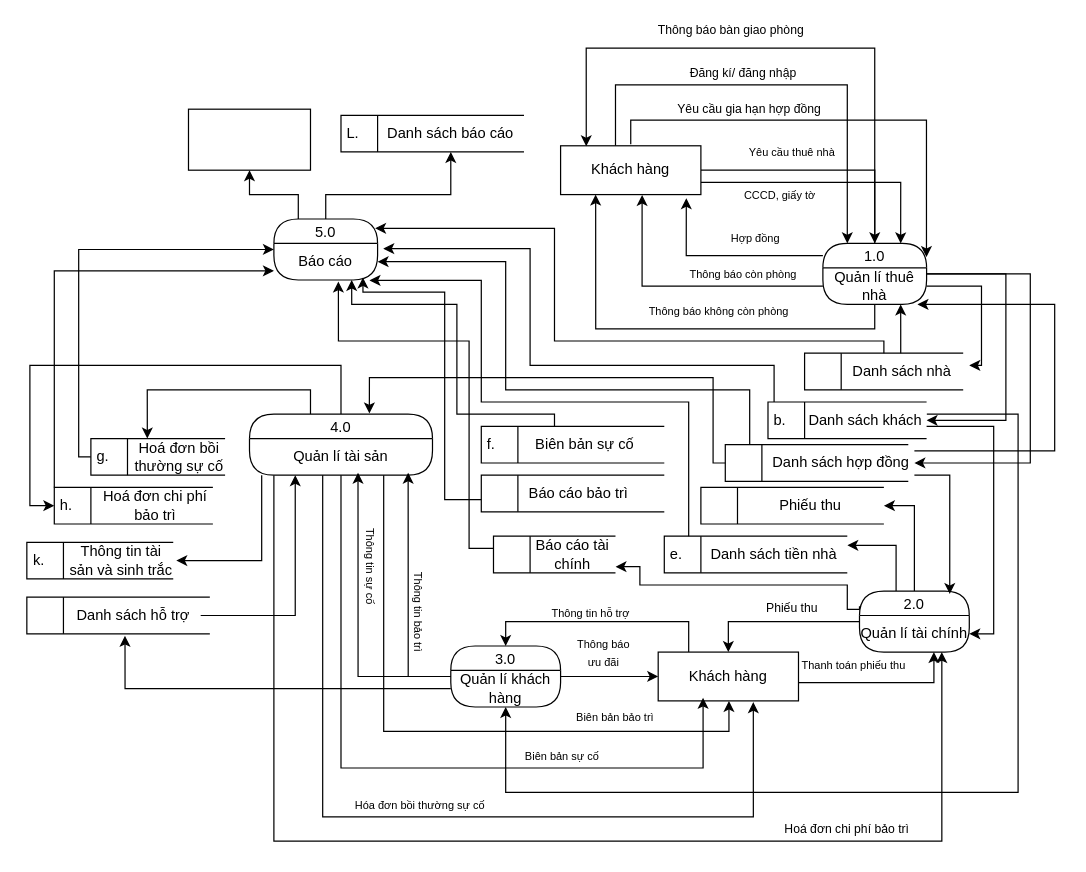
Some shapes in this 1086 by 872 pixel diagram are drawn without their labels. Here are the shapes that lost their labels. From the top down, the box of each, then its label:
(187, 108, 310, 170): Chủ trọ
(803, 352, 963, 390): a.
(724, 443, 908, 481): c.
(480, 474, 664, 512): i.
(700, 486, 884, 524): d.
(492, 535, 615, 573): n.
(26, 596, 210, 634): m.
